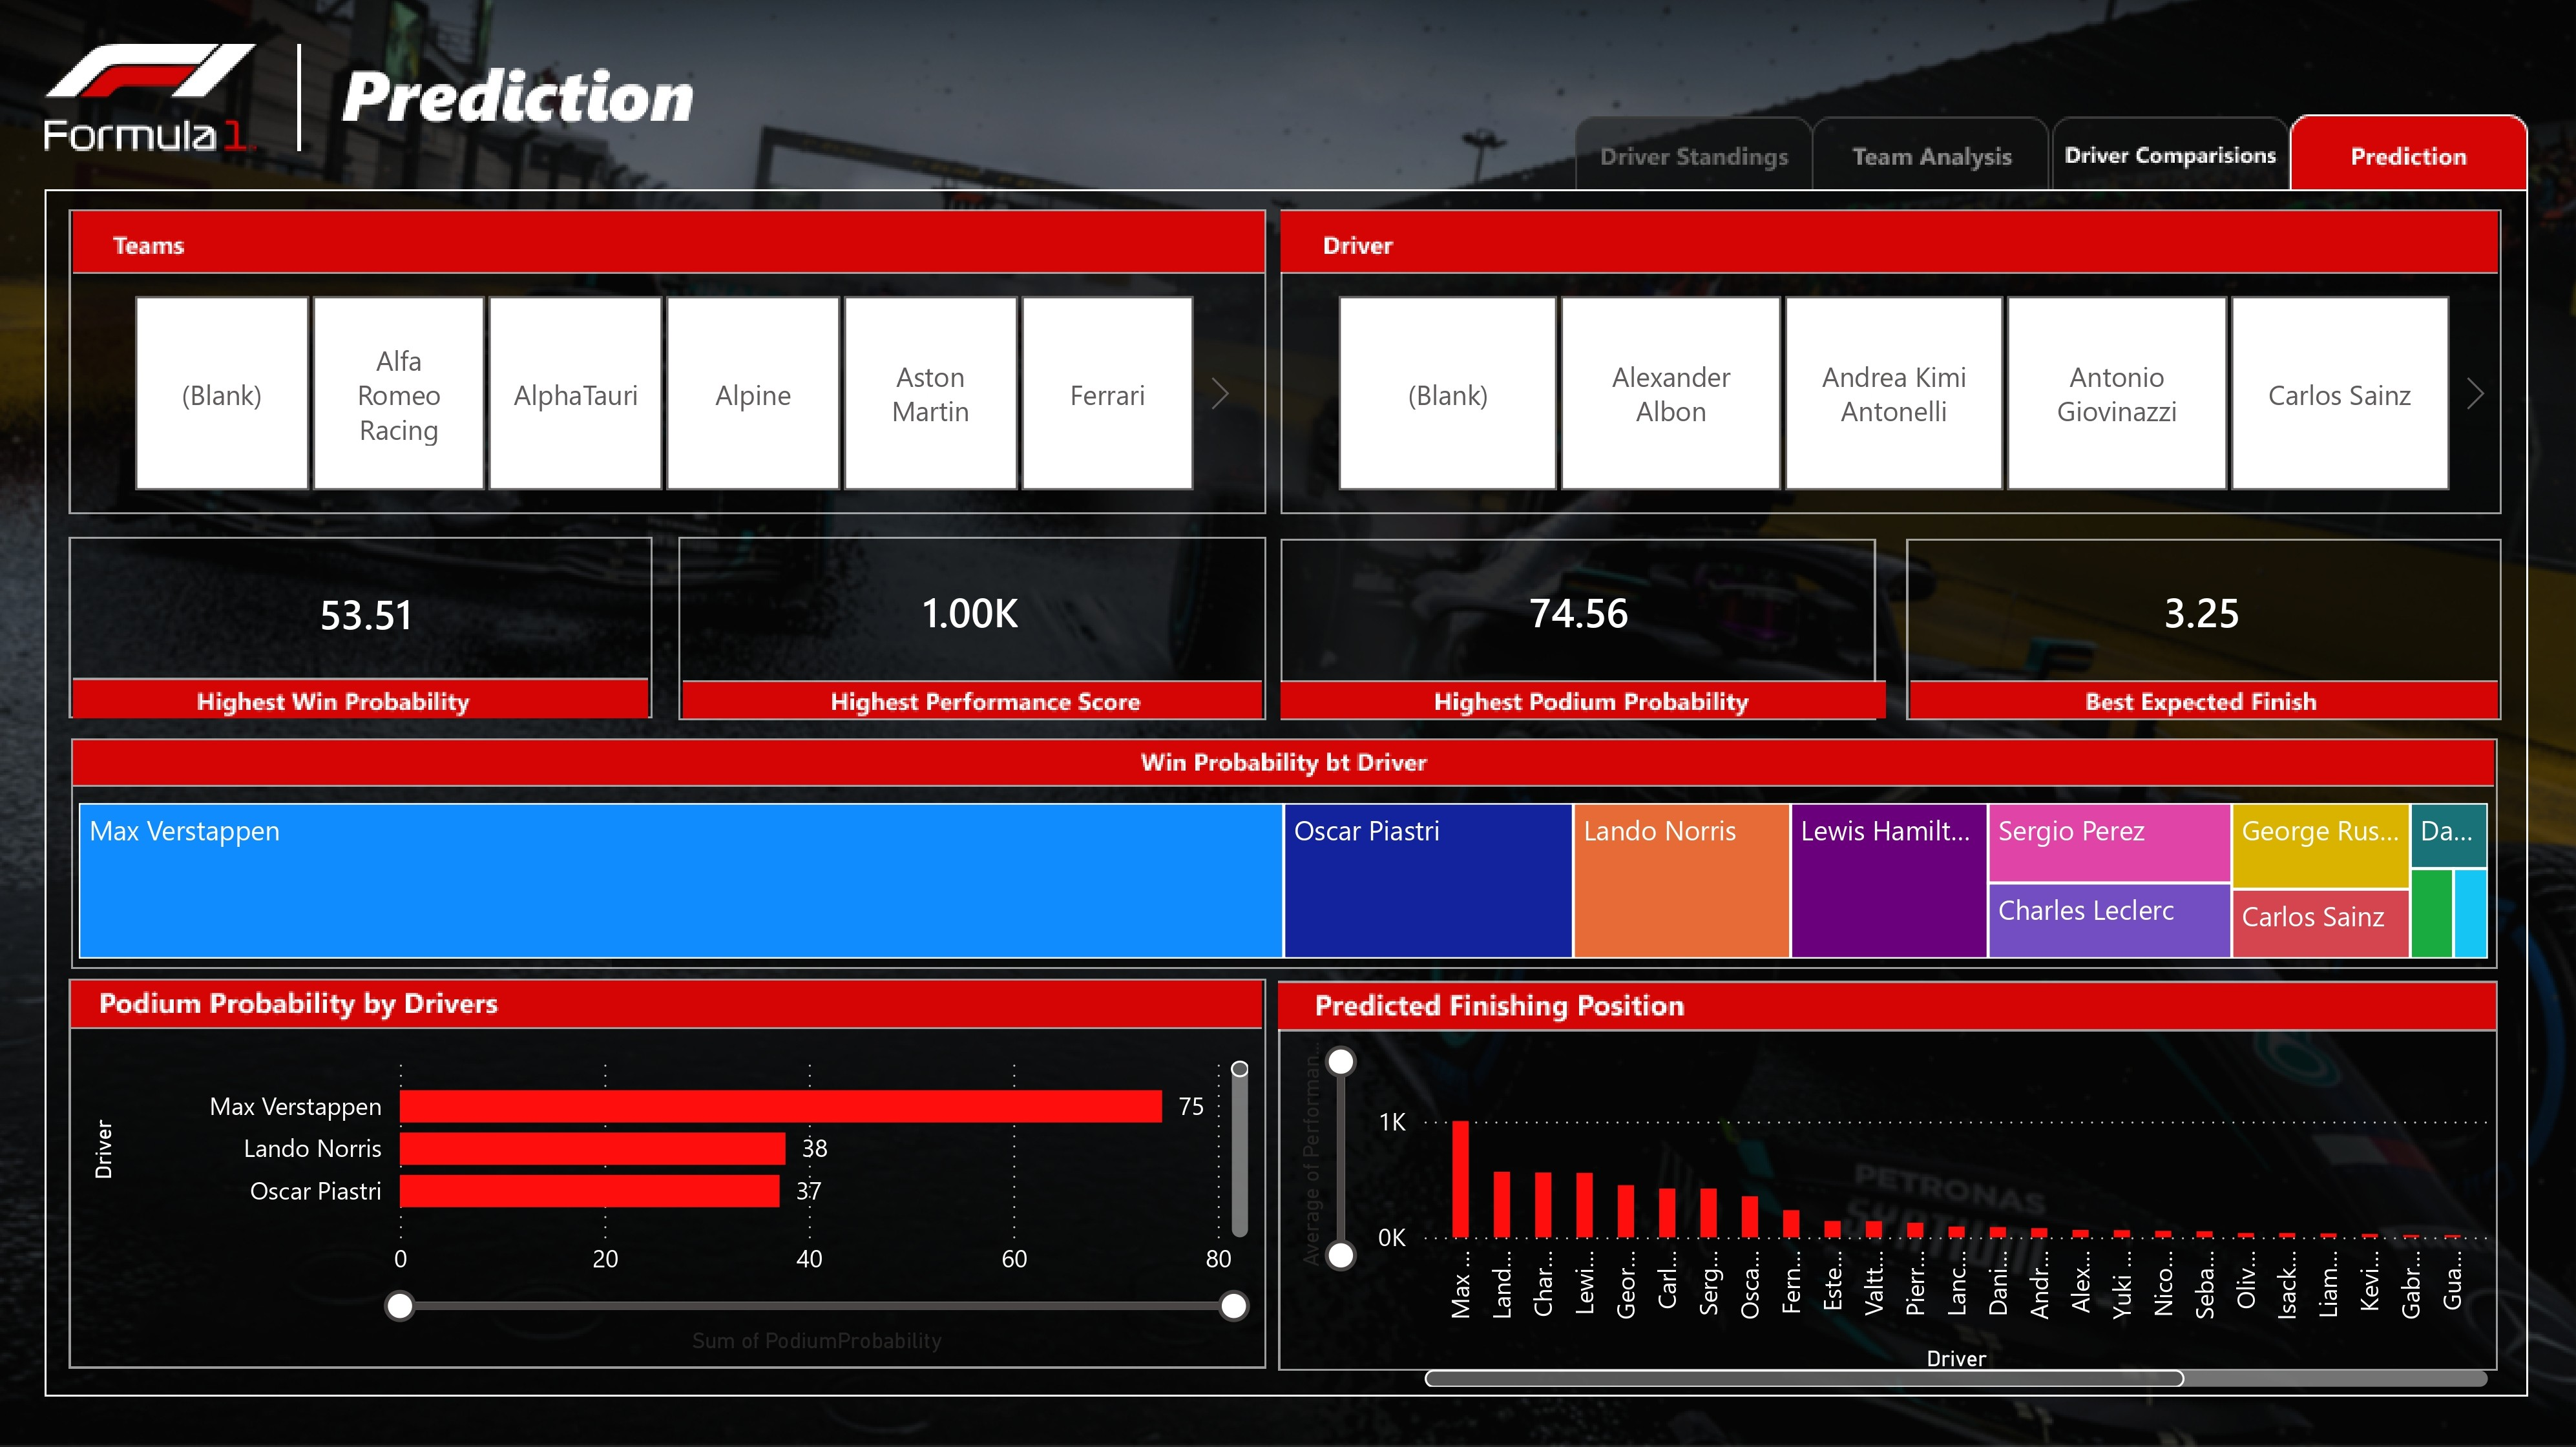

This screenshot's page, from the dashboard's own definition file:
{"tool":"powerbi","page":{"name":"Prediction","canvas":[1500,900],"ordinal":3},"visuals":[{"type":"slicer","fields":{"Values":["driver_stats.Team"]},"box":[154.3,231.4,574.3,110],"z":0},{"type":"cardVisual","title":"Highest Win Probability","fields":{"Data":["Max(driver_stats.WinProbability)"]},"box":[147,357,294,72],"z":1000},{"type":"cardVisual","title":"Highest Podium Probability","fields":{"Data":["Max(driver_stats.PodiumProbability)"]},"box":[750,357,290,71],"z":2000},{"type":"cardVisual","title":"Highest Performance Score","fields":{"Data":["Max(driver_stats.PerformanceScore)"]},"box":[451,357,285,71],"z":3000},{"type":"cardVisual","title":"Best Expected Finish","fields":{"Data":["Min(driver_stats.ExpectedFinish)"]},"box":[1057,357,293,71],"z":4000},{"type":"treemap","title":"Win Probability by Driver","fields":{"Group":["driver_stats.Driver"],"Values":["Sum(driver_stats.WinProbability)"]},"box":[147,484,1203,87],"z":6000},{"type":"barChart","title":"PODIUM PROBABILITY BY DRIVER","fields":{"Category":["driver_stats.Driver"],"Y":["Sum(driver_stats.PodiumProbability)"]},"box":[154,604,582,162],"z":7000},{"type":"ribbonChart","title":"Predicted Finishing Position","fields":{"Category":["driver_stats.Driver"],"Y":["Avg(driver_stats.PerformanceScore)"]},"box":[749,604,601,179],"z":8000},{"type":"slicer","fields":{"Values":["driver_stats.Driver"]},"box":[750,231.4,600,110],"z":9000}]}

Visuals, with their boxes on the page's 1500x900 design canvas (x1, y1, x2, y2). These are canvas units, not pixel positions in the 2576x1447 screenshot, which may show the page scaled, cropped or inside an application window:
slicer - driver_stats.Team: Rect(154, 231, 729, 341)
"Highest Win Probability" cardVisual: Rect(147, 357, 441, 429)
"Highest Podium Probability" cardVisual: Rect(750, 357, 1040, 428)
"Highest Performance Score" cardVisual: Rect(451, 357, 736, 428)
"Best Expected Finish" cardVisual: Rect(1057, 357, 1350, 428)
"Win Probability by Driver" treemap: Rect(147, 484, 1350, 571)
"PODIUM PROBABILITY BY DRIVER" barChart: Rect(154, 604, 736, 766)
"Predicted Finishing Position" ribbonChart: Rect(749, 604, 1350, 783)
slicer - driver_stats.Driver: Rect(750, 231, 1350, 341)
